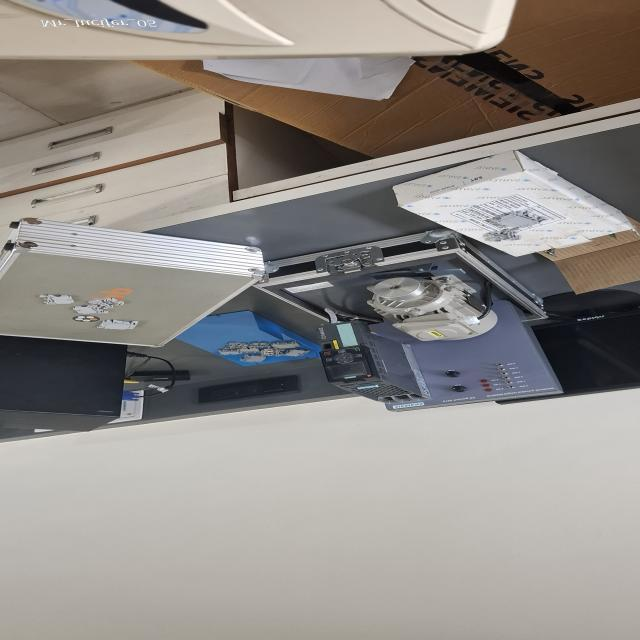Inverted: (38, 294, 76, 306), (71, 305, 110, 315), (216, 348, 242, 356)
Pass: (86, 297, 126, 310), (222, 340, 248, 350), (248, 340, 269, 350)
Reject: (487, 228, 522, 243)
